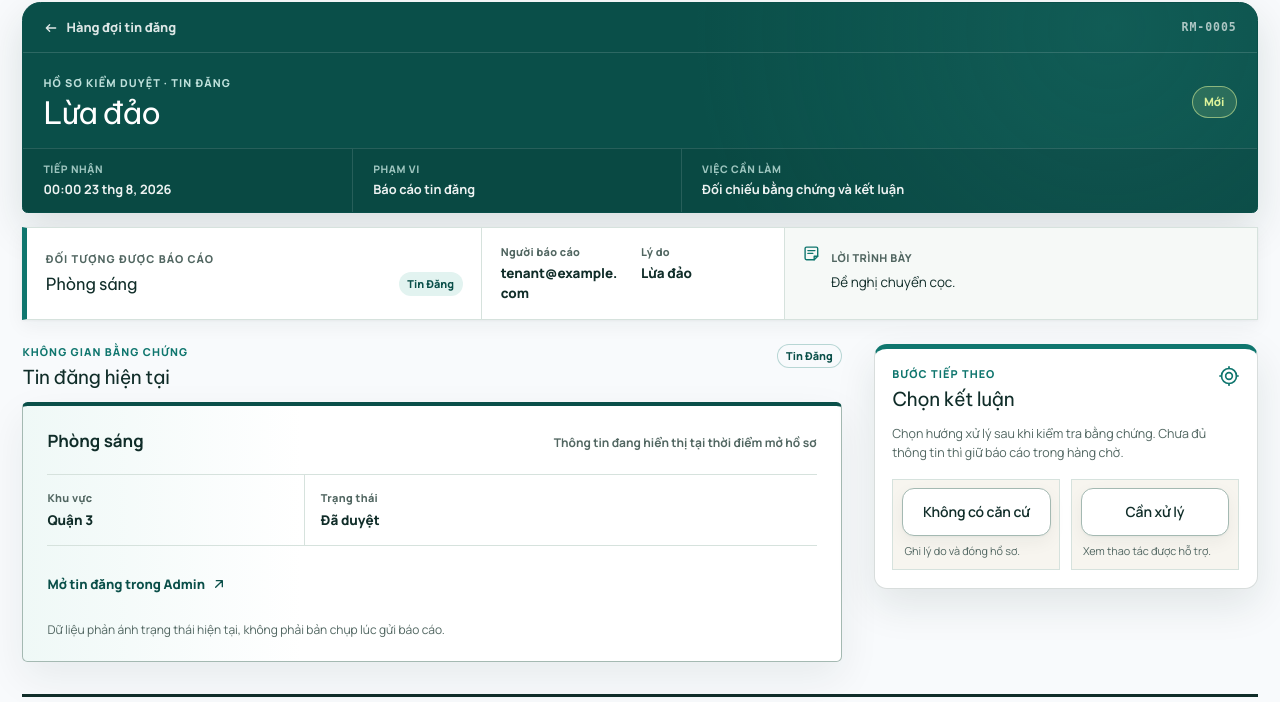
Scenario: AdminReportDetail › reloads a stale report and focuses the 409 explanation
Expected: the heading "Lừa đảo" is shown, [43,93,160,132]
Click the button "Cần xử lý" at coordinates (1155, 512), box [1081,488,1229,536]
(page scrolled)
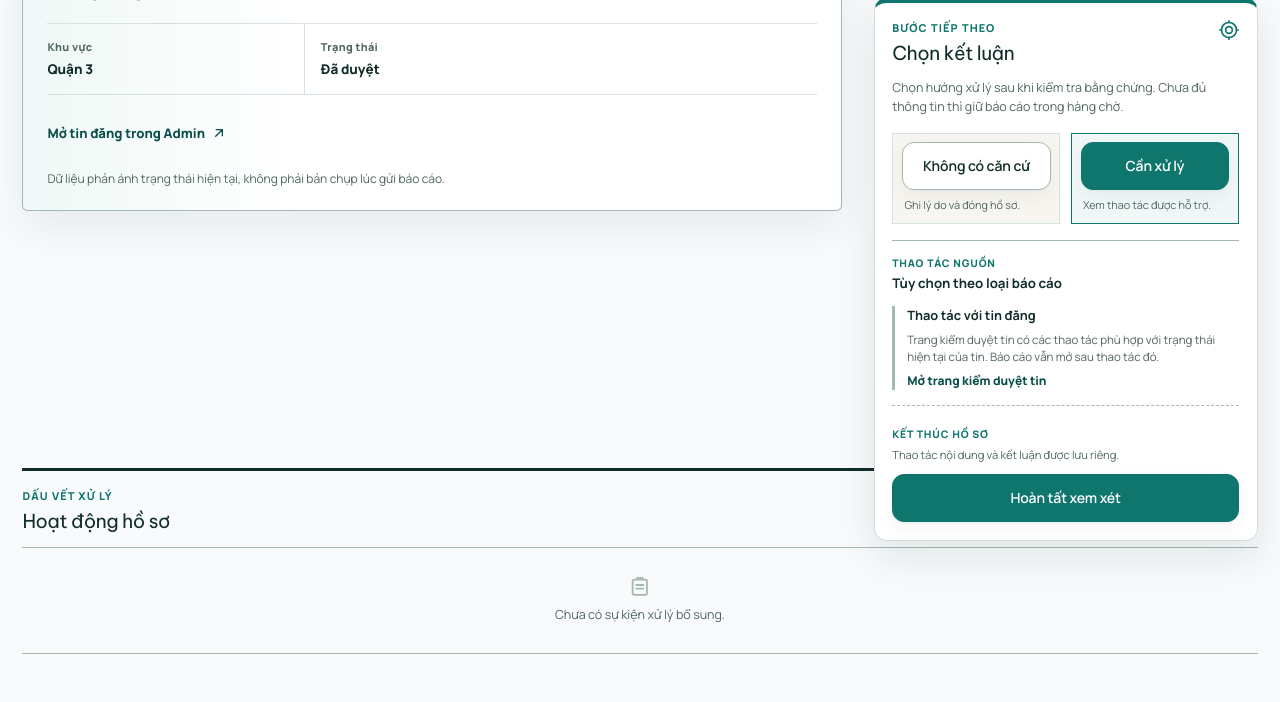
Click the button "Hoàn tất xem xét" at coordinates (1066, 498), box [892,474,1239,522]
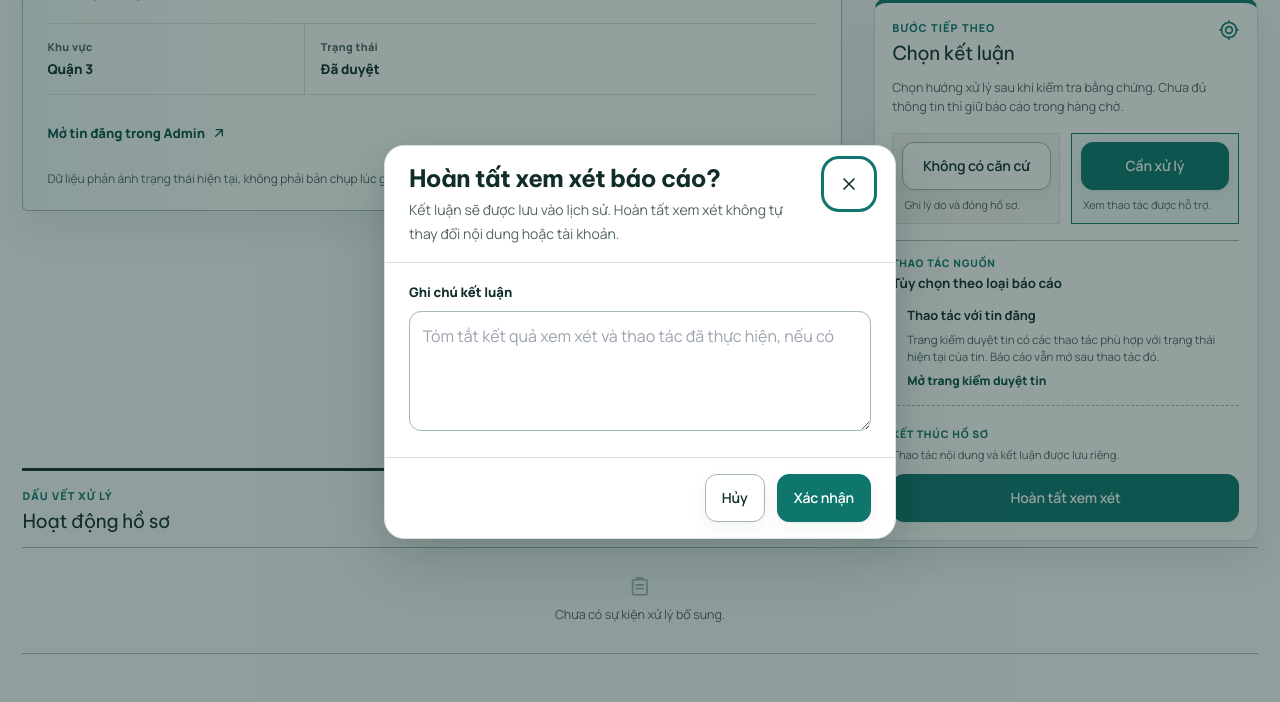
Type "Đã xem xét." into the text box labelled "Ghi chú kết luận" at coordinates (640, 371), box [409,311,871,431]
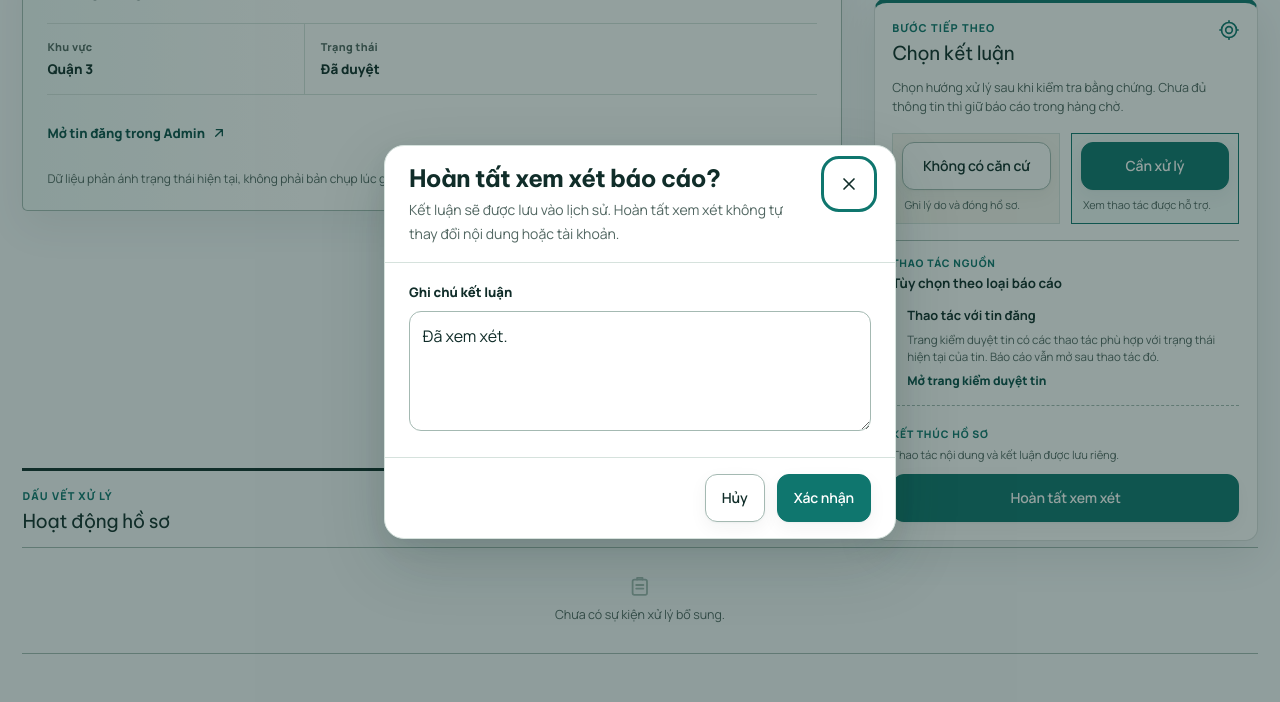
Click the button "Xác nhận" at coordinates (824, 498), box [777,474,871,522]
(page scrolled)
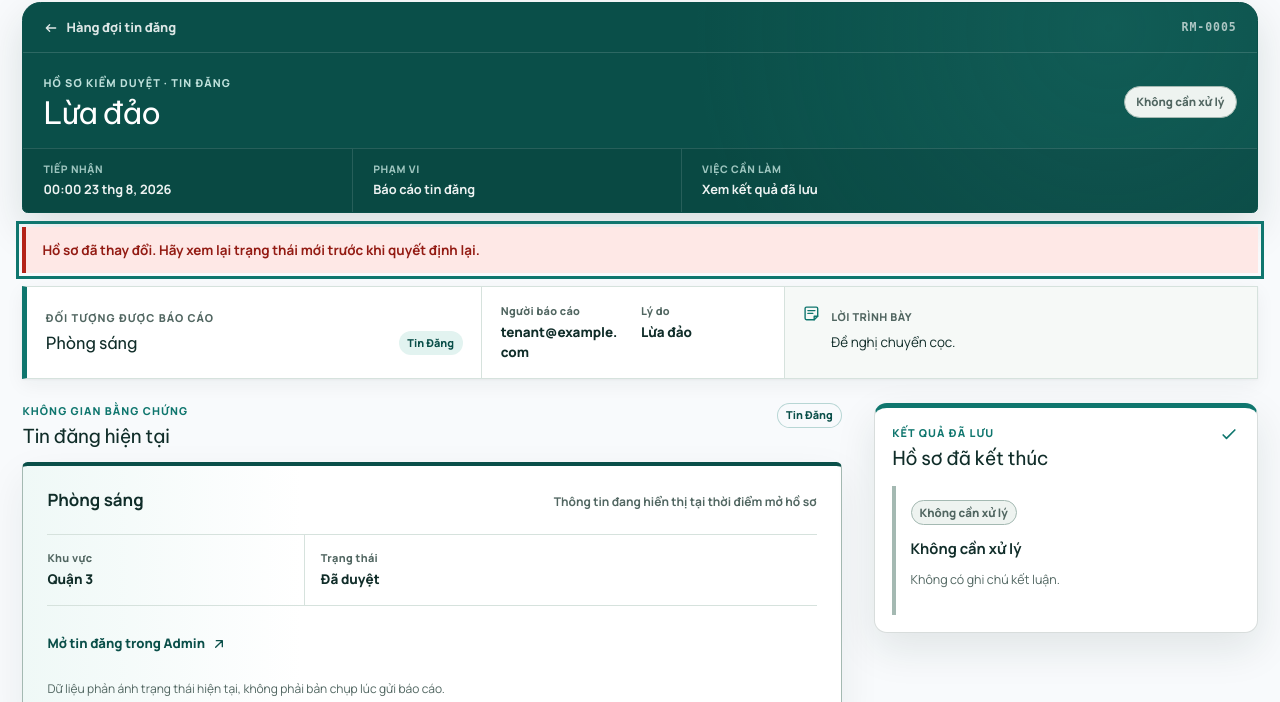
Expected: the message shows "Hồ sơ đã thay đổi", [42,241,480,259]
Expected: the button "Hoàn tất xem xét" is gone
